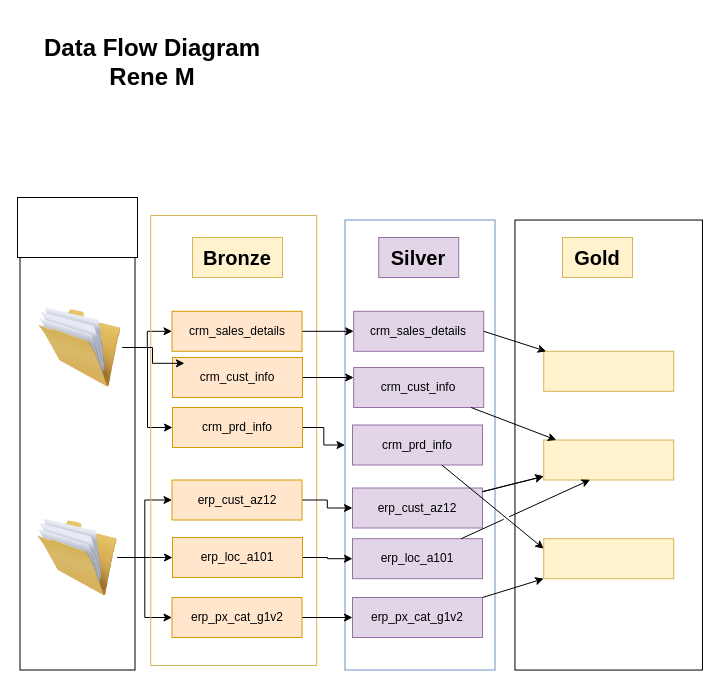
Some shapes in this 720 by 688 pixel diagram are drawn without their labels. Here are the shapes that lost their labels. From the top down, the centre of each, then its label:
At (x=77, y=227): "Sources".
At (x=79, y=347): "CRM".
At (x=608, y=370): "fact_sales".
At (x=608, y=459): "dim_customers".
At (x=77, y=557): "ERP".
At (x=608, y=558): "dim_products".
